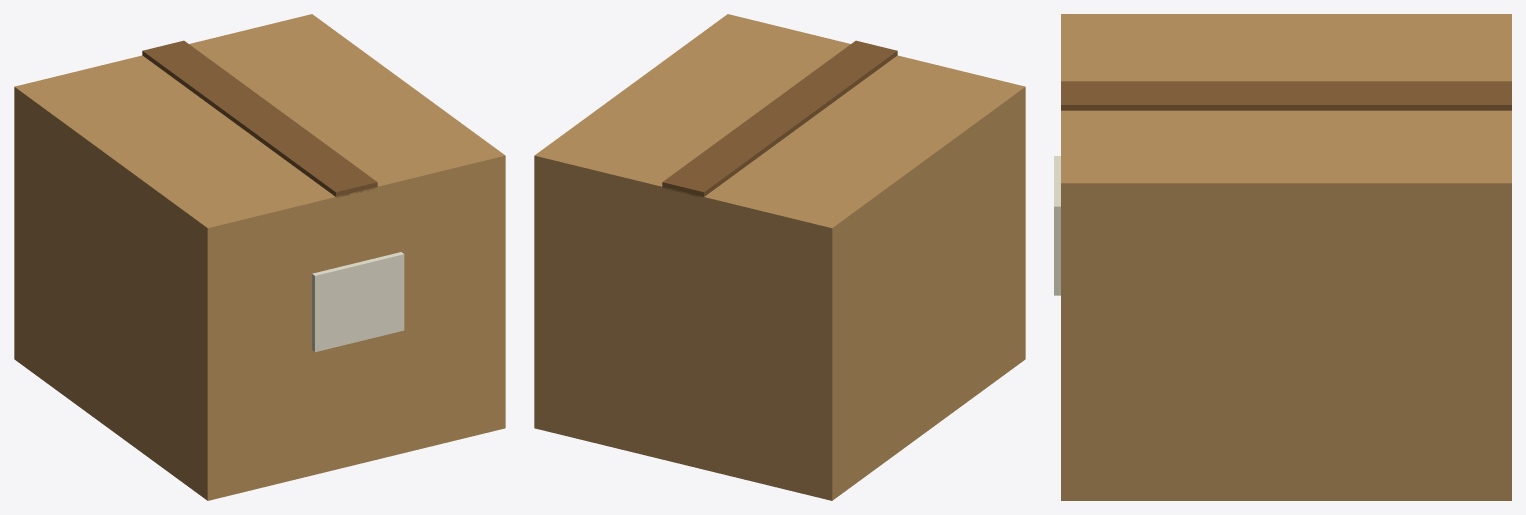
File: BoxSmall.obj
The picture shows the model from 3 angles, left to right: view 1: azimuth 30°, elevation 25°; view 2: azimuth 150°, elevation 25°; view 3: azimuth 270°, elevation 25°; orthographic projection. The views are drawn at different scales.
Visible parts, largest first — view 1: BoxSmall; view 2: BoxSmall; view 3: BoxSmall.
Part boxes in pixels (x1,y1,x2,y2): BoxSmall: [14, 14, 505, 500]; BoxSmall: [534, 14, 1025, 500]; BoxSmall: [1054, 14, 1511, 500].
Bounding box in the file's own units: 0.4 × 0.356 × 0.457.
